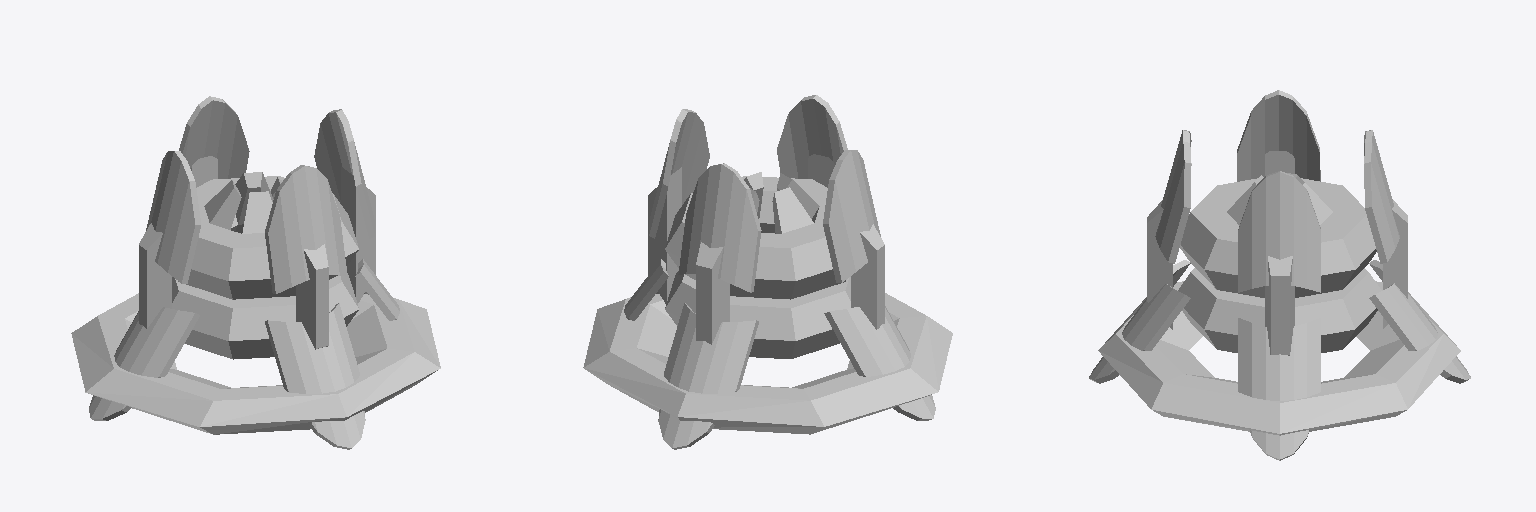
The model's file is CommandModule.obj.
The picture shows the model from 3 angles: view 1: azimuth 30°, elevation 25°; view 2: azimuth 150°, elevation 25°; view 3: azimuth 270°, elevation 25°; orthographic projection.
Visible parts, largest first — view 1: pTorus14; view 2: pTorus14; view 3: pTorus14.
Boxes of the visible parts, x1,y1,x2,y2 form: pTorus14: [71, 96, 440, 449]; pTorus14: [583, 95, 952, 449]; pTorus14: [1089, 90, 1470, 460].
Size of the model in its own units: 5.53 by 3.9 by 5.38.